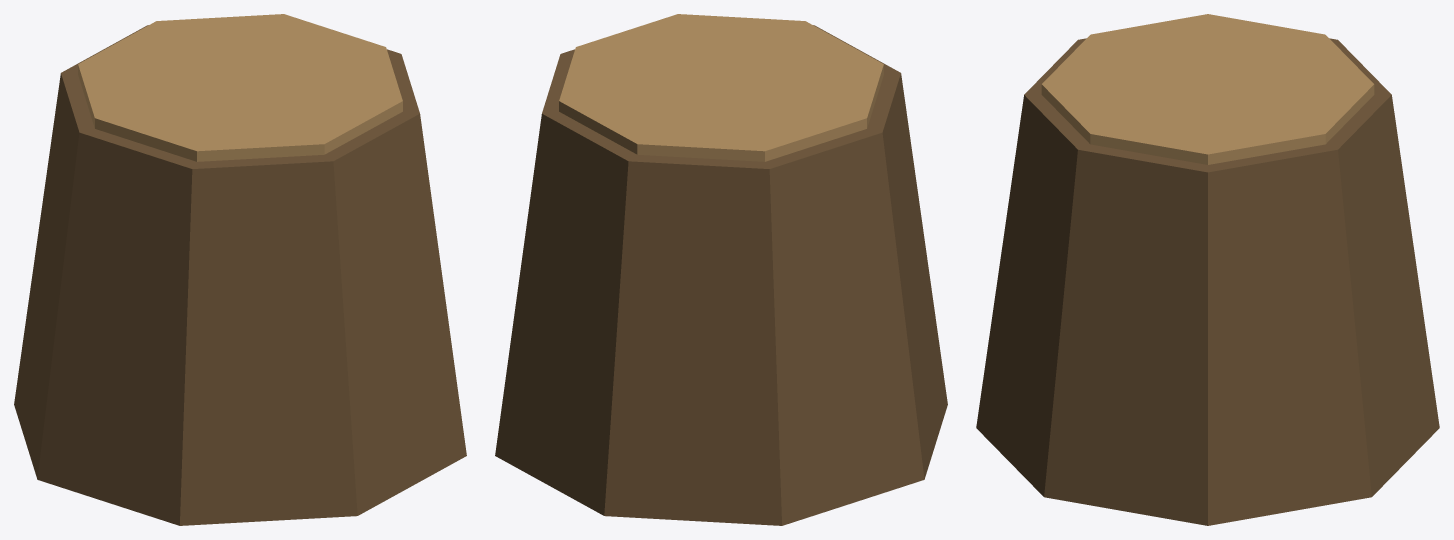
File: stump.glb
3 views of the same model, side by side, from view 1: azimuth 30°, elevation 25°; view 2: azimuth 150°, elevation 25°; view 3: azimuth 270°, elevation 25° (orthographic).
Visible parts, largest first — view 1: StumpBark, CutEnd; view 2: StumpBark, CutEnd; view 3: StumpBark, CutEnd.
Part boxes in pixels (x1,y1,x2,y2): StumpBark: [14, 25, 466, 525]; CutEnd: [78, 14, 402, 161]; StumpBark: [495, 25, 947, 525]; CutEnd: [559, 14, 883, 161]; StumpBark: [976, 38, 1439, 525]; CutEnd: [1041, 14, 1374, 164].
Size of the model in its own units: 0.58 by 0.4745 by 0.58.
